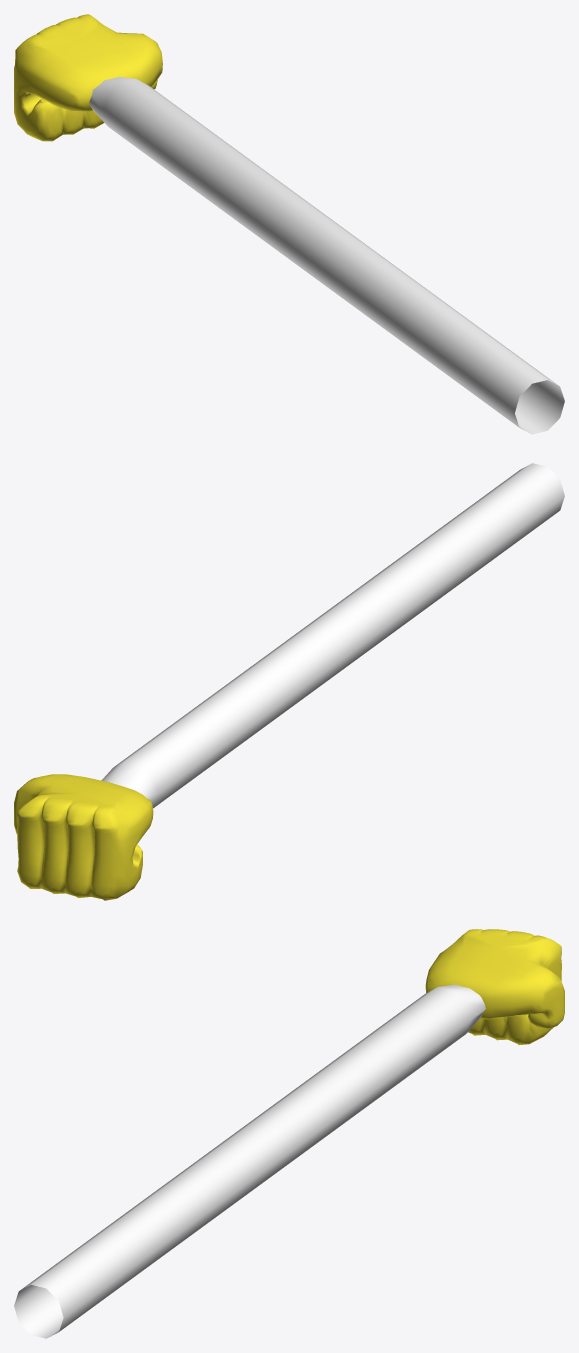
Rendered from punpun_total.FBX.
The picture shows the model from 3 angles, top to bottom: view 1: azimuth 30°, elevation 25°; view 2: azimuth 150°, elevation 25°; view 3: azimuth 330°, elevation 25°; orthographic projection.
Parts seen in each view (by area): view 1: Box007; view 2: Box007; view 3: Box007.
Boxes of the visible parts, left/top/right/bottom form: Box007: left=14, top=14, right=564, bottom=434; Box007: left=14, top=463, right=564, bottom=900; Box007: left=14, top=929, right=564, bottom=1338.
Size of the model in its own units: 80.73 by 56.75 by 547.
1 material, 1 textured.
